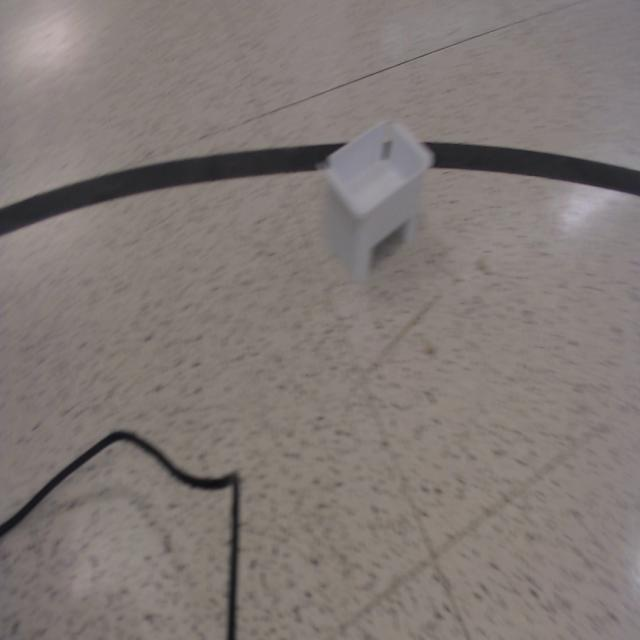wbox: (317, 113, 436, 283)
